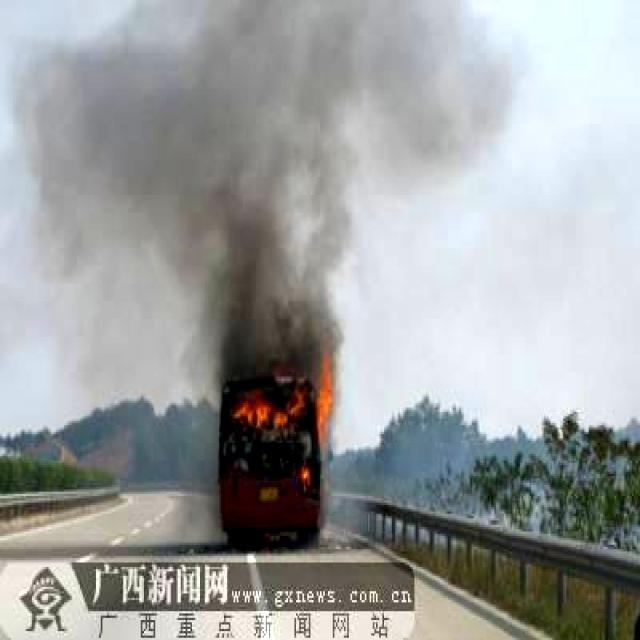Fire: (232, 390, 304, 436), (312, 359, 338, 453)
Smoke: (18, 0, 528, 392)
